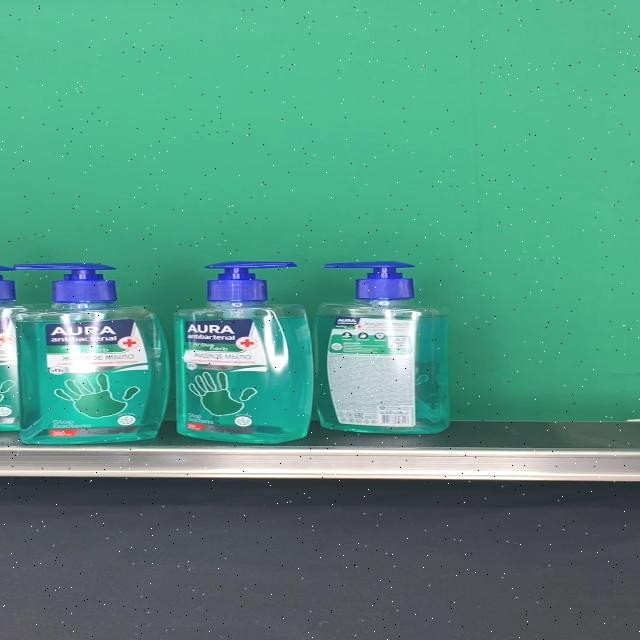Bottle: (13, 263, 170, 445), (174, 261, 313, 443), (312, 261, 451, 434)
Cap: (202, 261, 298, 302), (15, 263, 117, 301), (323, 261, 415, 301)
